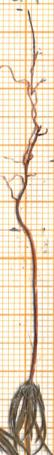flower: (4, 378, 54, 455)
root: (0, 11, 52, 230)
stem: (15, 228, 42, 379)
